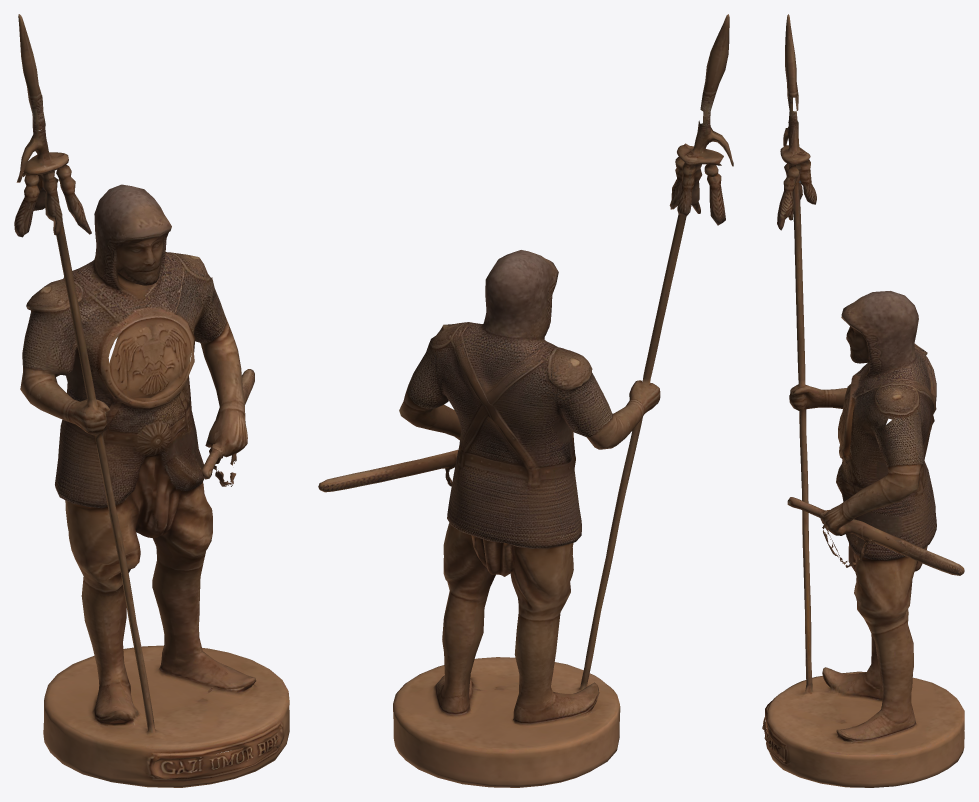
File: gaziumurbey.glb
3 views of the same model, side by side, from view 1: azimuth 30°, elevation 25°; view 2: azimuth 150°, elevation 25°; view 3: azimuth 270°, elevation 25° (orthographic). The views are drawn at different scales.
Parts seen in each view (by area): view 1: tripo_node_f4fa4478; view 2: tripo_node_f4fa4478; view 3: tripo_node_f4fa4478.
Boxes of the visible parts, x1,y1,x2,y2 form: tripo_node_f4fa4478: (14, 14, 289, 787); tripo_node_f4fa4478: (318, 14, 733, 787); tripo_node_f4fa4478: (762, 14, 964, 787).
Size of the model in its own units: 43.76 by 97.8 by 27.37.
1 material, 1 textured.
